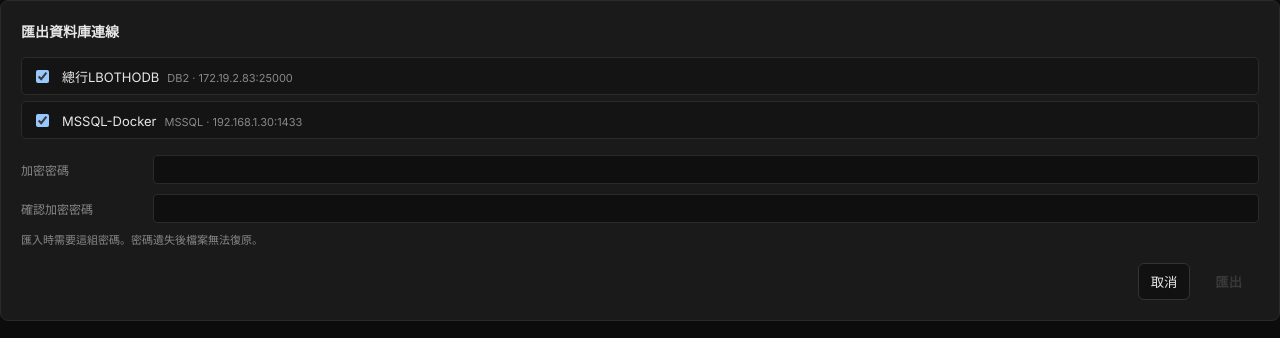
Test: DbExportPanel › disables export when nothing is selected
Type "pw" into the password field labelled "加密密碼" at x=706, y=170, box x1=153 y1=155 x2=1259 y2=184
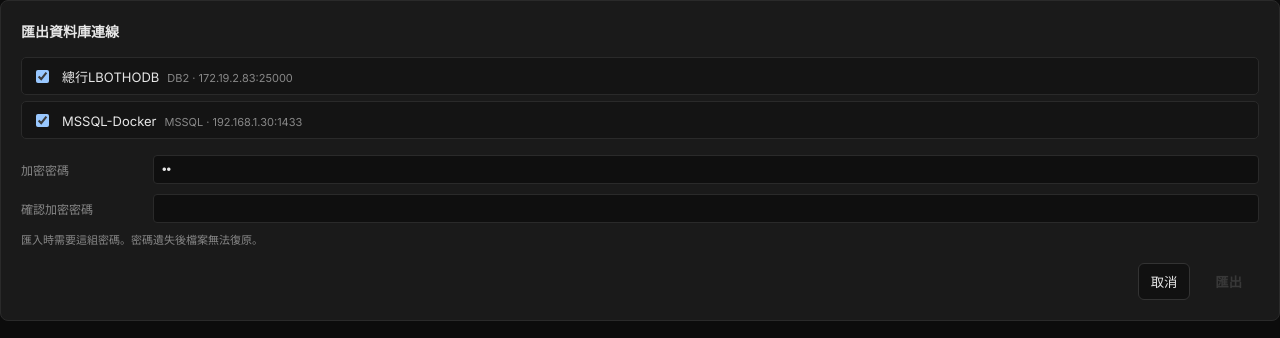
Type "pw" into the password field labelled "確認加密密碼" at x=706, y=208, box x1=153 y1=194 x2=1259 y2=223
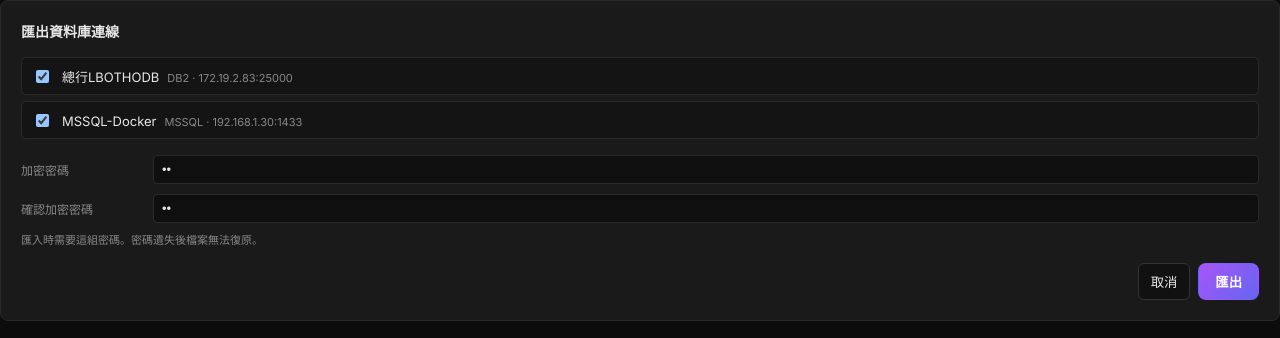
Click the 1st checkbox at x=42, y=76, box x1=36 y1=70 x2=49 y2=82
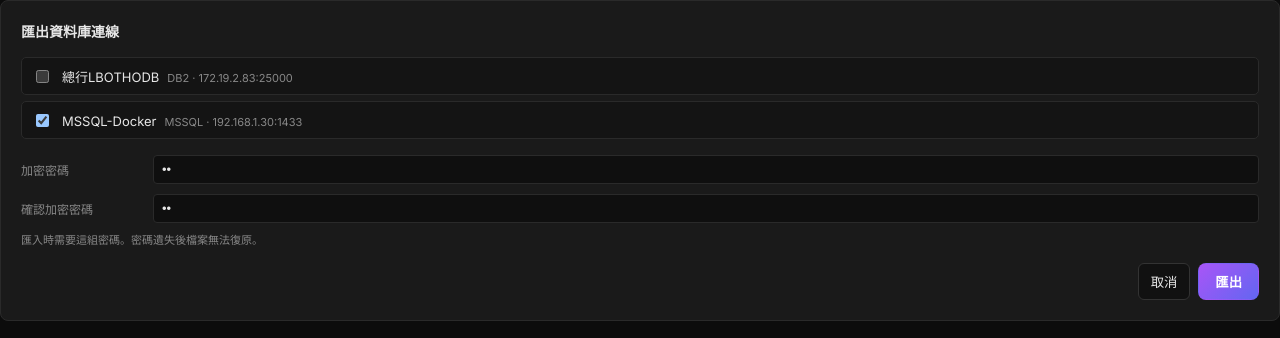
Click the 2nd checkbox at x=42, y=120, box x1=36 y1=114 x2=49 y2=126
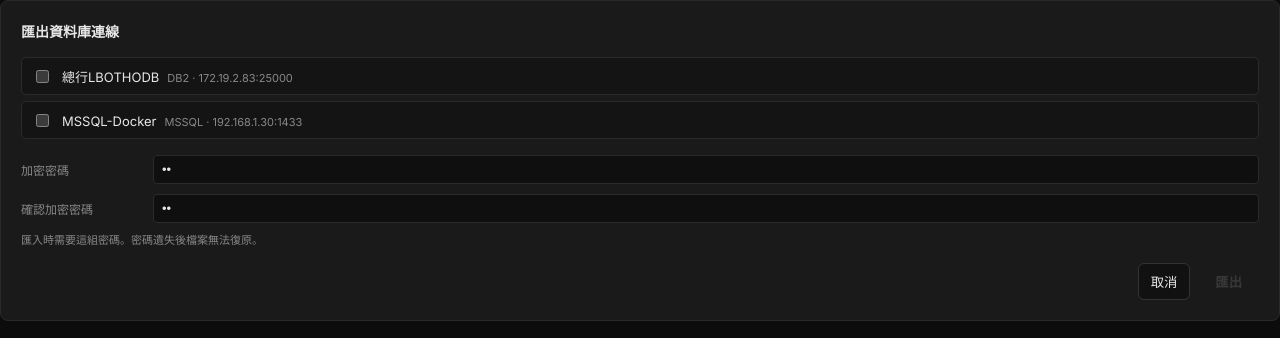
Expected: the button "匯出" is disabled, x1=1198 y1=263 x2=1259 y2=300
